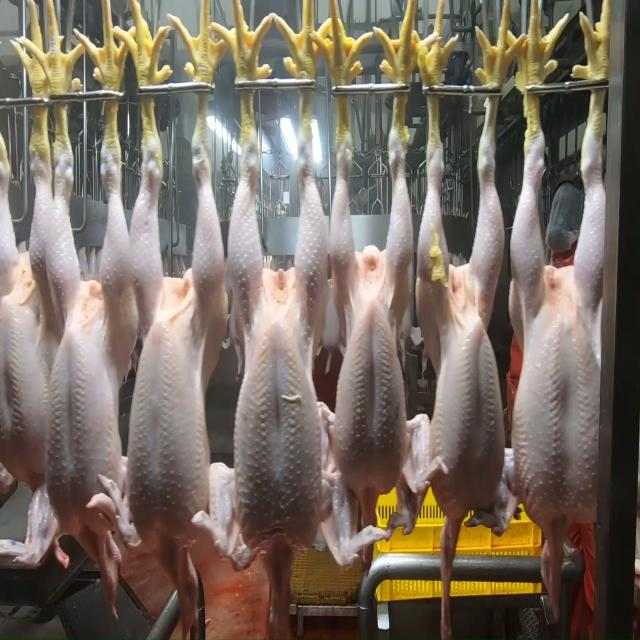chicken: (228, 142, 324, 559), (417, 135, 519, 523), (514, 120, 610, 528), (125, 148, 212, 549), (45, 147, 126, 530), (332, 130, 415, 498), (0, 129, 50, 486)
